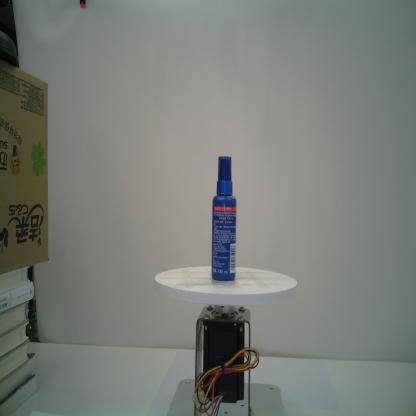Personal Hygiene: (211, 155, 238, 282)
